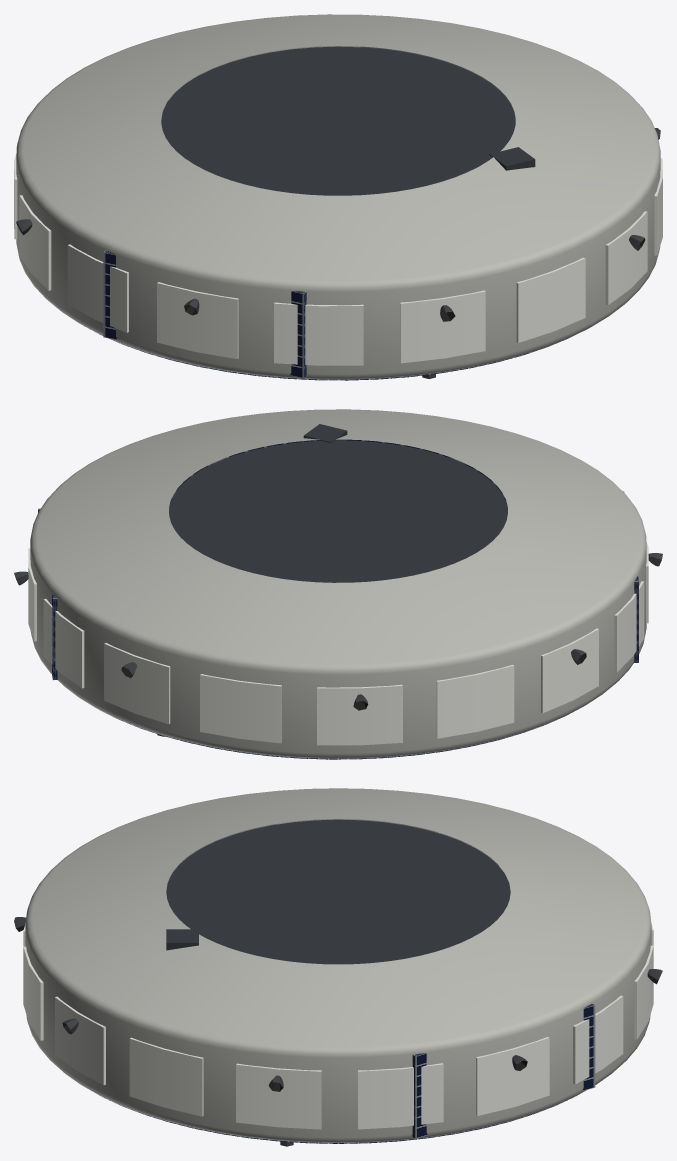
The model's file is cruise_stage_mars.glb.
3 renders of one model, top to bottom at view 1: azimuth 30°, elevation 25°; view 2: azimuth 150°, elevation 25°; view 3: azimuth 270°, elevation 25°, orthographic. The views are drawn at different scales.
Visible parts, largest first — view 1: body, slot_power; view 2: body, slot_power; view 3: body, slot_power.
Boxes of the visible parts, x1=… form: body: x1=14, y1=14, x2=662, y2=380; slot_power: x1=103, y1=46, x2=515, y2=378; body: x1=14, y1=409, x2=662, y2=759; slot_power: x1=38, y1=491, x2=638, y2=680; body: x1=14, y1=788, x2=662, y2=1143; slot_power: x1=166, y1=824, x2=595, y2=1138.
Size of the model in its own units: 2.99 by 0.71 by 2.99.
Materials: 11 (1 with a texture image).
